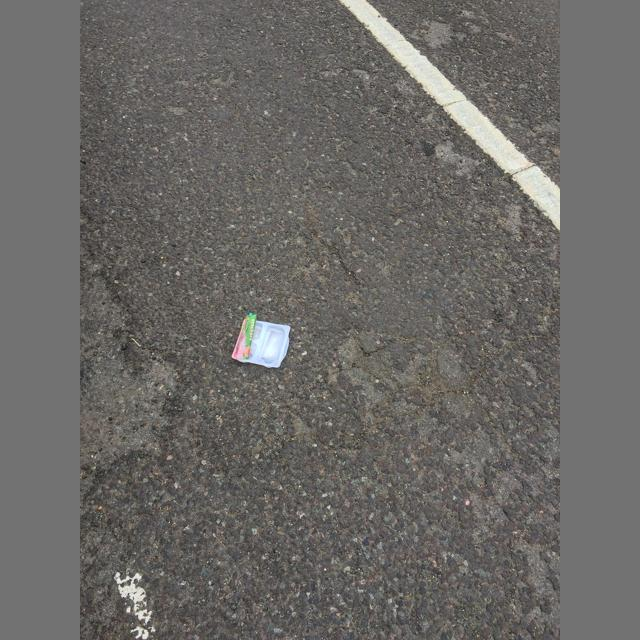litter: (232, 318, 291, 368), (232, 313, 257, 359)
